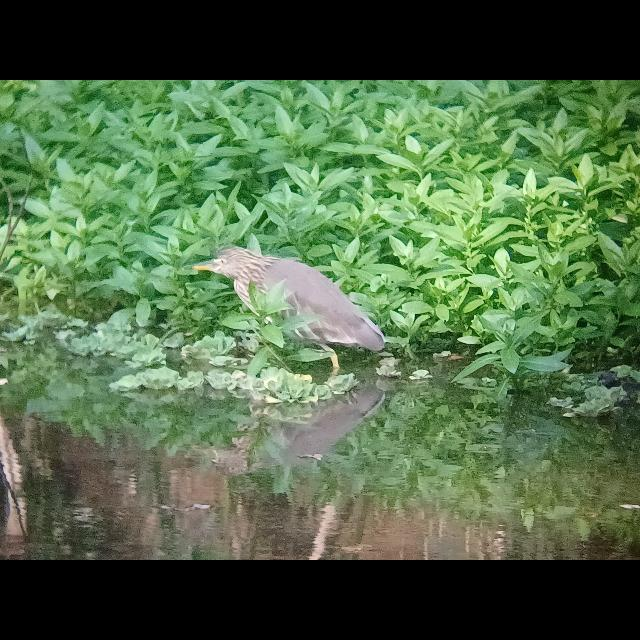heron: (187, 241, 393, 367)
